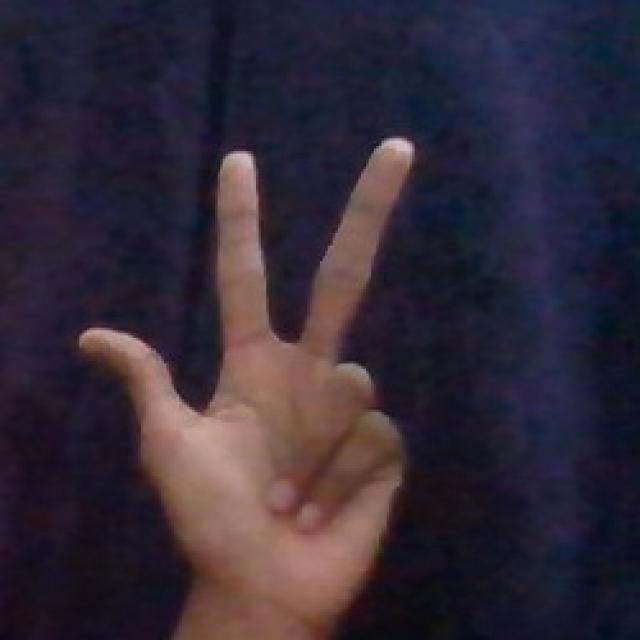Numeric-3: (70, 132, 423, 619)
